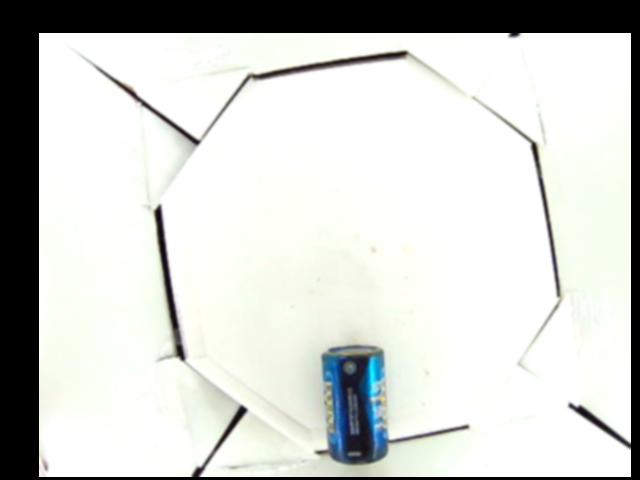Battery: (322, 344, 388, 463)
